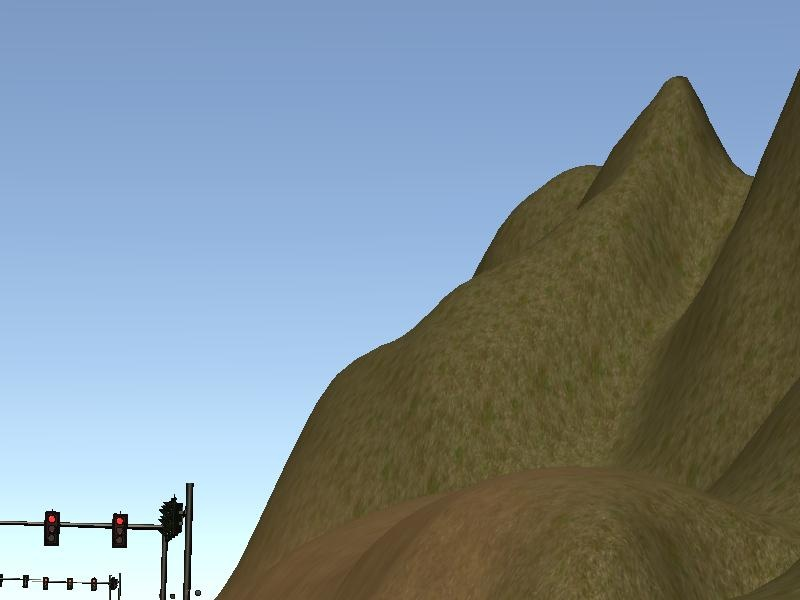red: (39, 503, 66, 553), (109, 506, 133, 556)
